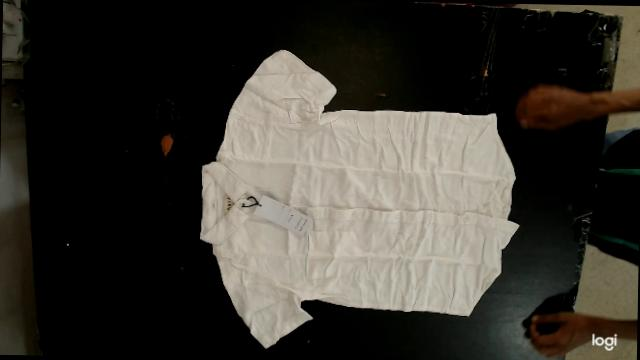new-garment: (200, 50, 519, 347)
